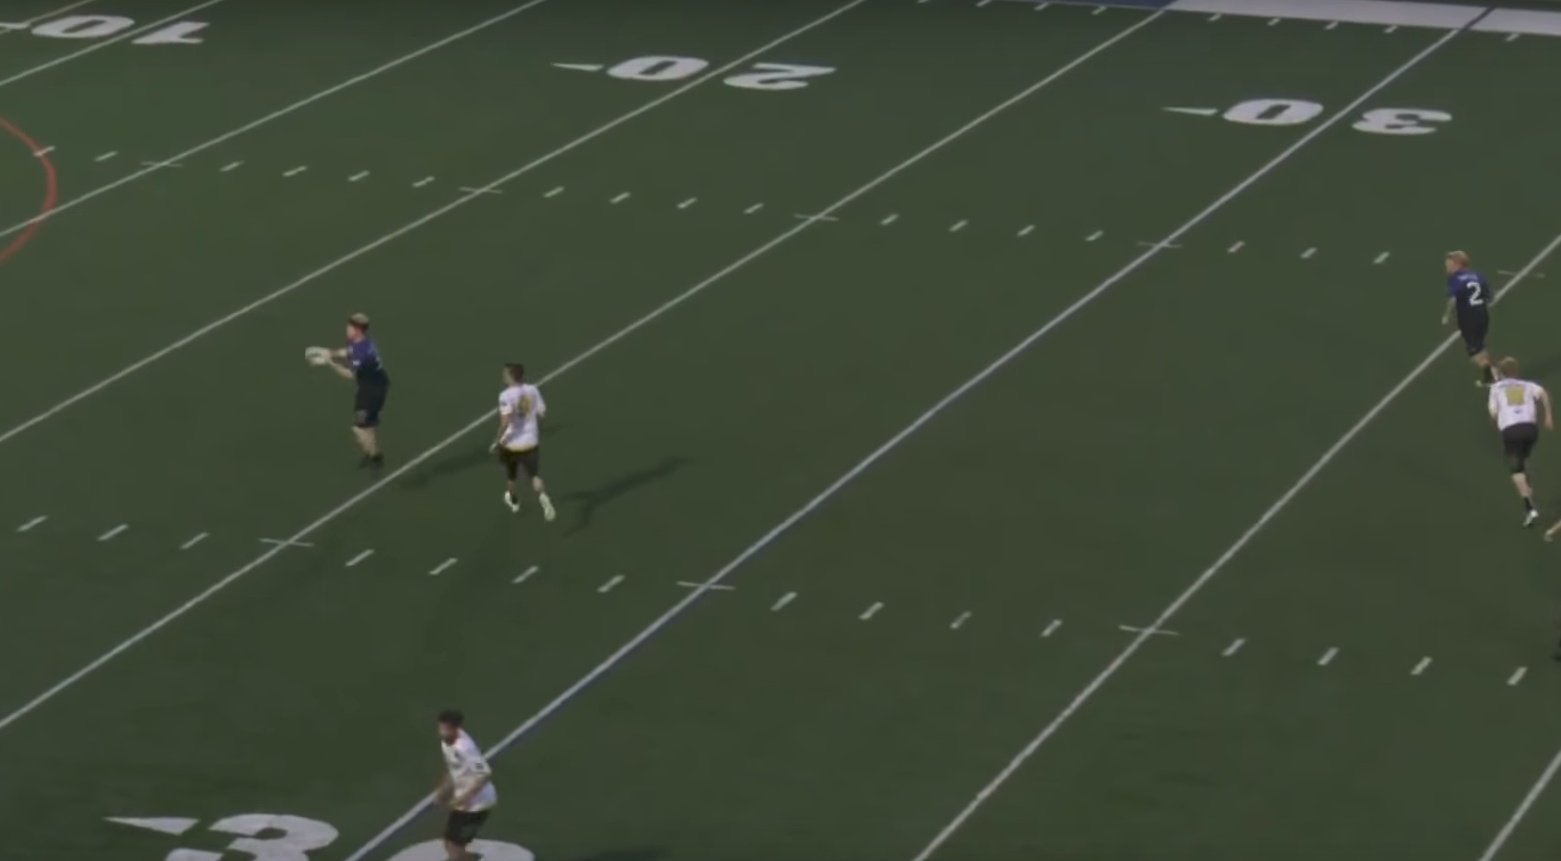frisbee: (304, 345, 333, 367)
